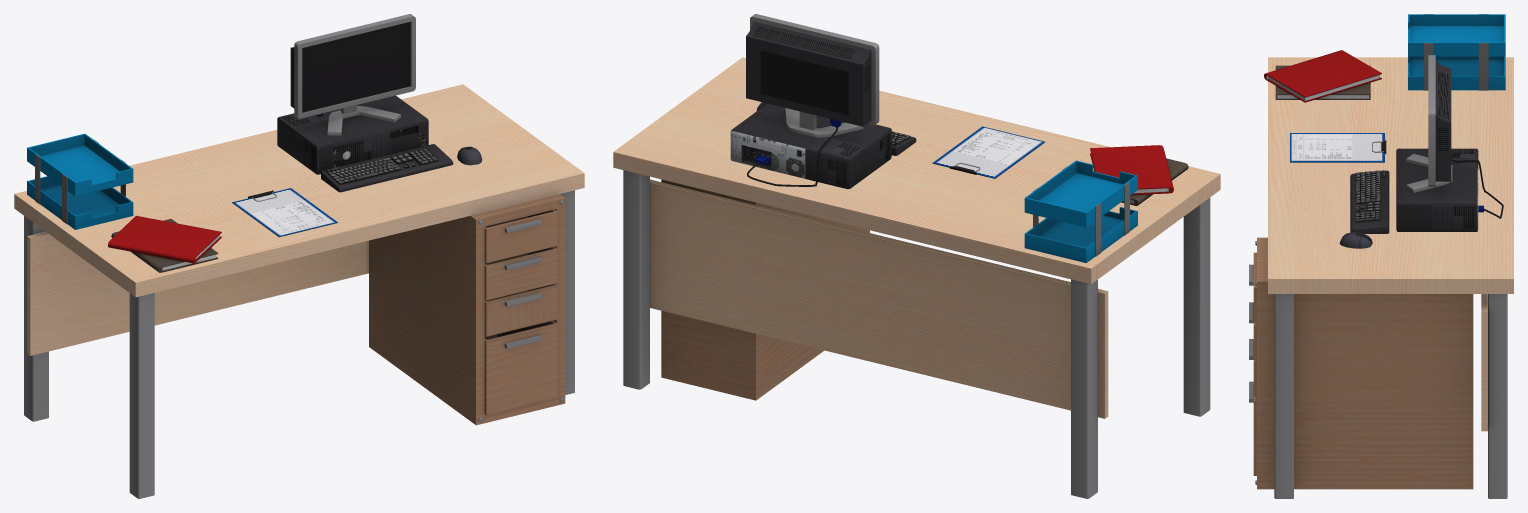
File: 3D005_DeskOffice.FBX
3 renders of one model, left to right at view 1: azimuth 30°, elevation 25°; view 2: azimuth 150°, elevation 25°; view 3: azimuth 270°, elevation 25°, orthographic. The views are drawn at different scales.
Visible parts, largest first — view 1: 3D005_DeskOffice_01, 3D005_DeskOffice_02, 3D005_DeskOffice_06, 3D005_DeskOffice_11, 3D005_DeskOffice_05, 3D005_DeskOffice_09, 3D005_DeskOffice_03, 3D005_DeskOffice_08, 3D005_DeskOffice_10; view 2: 3D005_DeskOffice_01, 3D005_DeskOffice_06, 3D005_DeskOffice_02, 3D005_DeskOffice_11, 3D005_DeskOffice_05, 3D005_DeskOffice_08, 3D005_DeskOffice_09; view 3: 3D005_DeskOffice_01, 3D005_DeskOffice_02, 3D005_DeskOffice_11, 3D005_DeskOffice_05, 3D005_DeskOffice_09, 3D005_DeskOffice_06, 3D005_DeskOffice_08, 3D005_DeskOffice_03, 3D005_DeskOffice_10, 3D005_DeskOffice_04, 3D005_DeskOffice_07.
Boxes of the visible parts, x1,y1,x2,y2 form: 3D005_DeskOffice_01: [14, 84, 584, 498]; 3D005_DeskOffice_02: [369, 194, 565, 425]; 3D005_DeskOffice_06: [290, 14, 415, 135]; 3D005_DeskOffice_11: [27, 133, 133, 229]; 3D005_DeskOffice_05: [277, 95, 428, 174]; 3D005_DeskOffice_09: [108, 215, 221, 263]; 3D005_DeskOffice_03: [321, 144, 453, 192]; 3D005_DeskOffice_08: [232, 188, 337, 237]; 3D005_DeskOffice_10: [111, 218, 218, 272]; 3D005_DeskOffice_01: [613, 57, 1220, 498]; 3D005_DeskOffice_06: [746, 14, 879, 137]; 3D005_DeskOffice_02: [661, 179, 869, 400]; 3D005_DeskOffice_11: [1024, 160, 1137, 263]; 3D005_DeskOffice_05: [730, 103, 891, 189]; 3D005_DeskOffice_08: [932, 126, 1044, 178]; 3D005_DeskOffice_09: [1090, 145, 1173, 194]; 3D005_DeskOffice_01: [1268, 57, 1513, 498]; 3D005_DeskOffice_02: [1249, 237, 1473, 489]; 3D005_DeskOffice_11: [1408, 14, 1505, 90]; 3D005_DeskOffice_05: [1396, 148, 1478, 231]; 3D005_DeskOffice_09: [1264, 50, 1381, 102]; 3D005_DeskOffice_06: [1406, 55, 1452, 192]; 3D005_DeskOffice_08: [1290, 133, 1386, 162]; 3D005_DeskOffice_03: [1350, 170, 1389, 233]; 3D005_DeskOffice_10: [1275, 65, 1370, 99]; 3D005_DeskOffice_04: [1339, 232, 1372, 248]; 3D005_DeskOffice_07: [1451, 158, 1503, 218].
Size of the model in its own units: 160 by 116 by 80.81.
